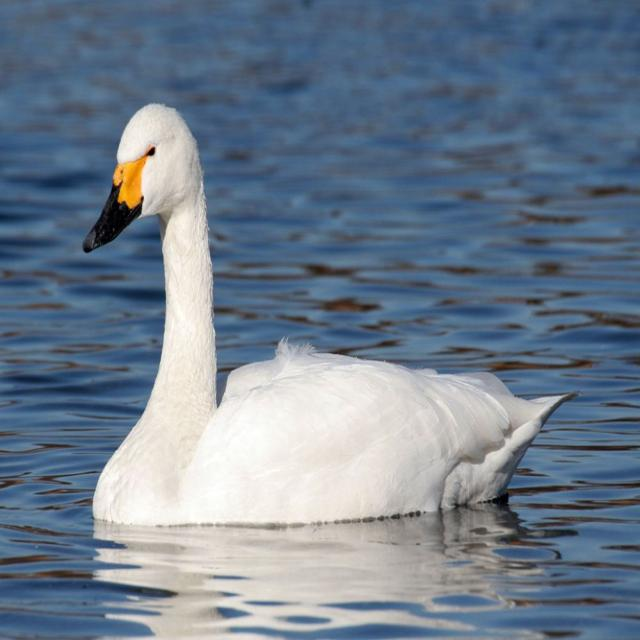Goose: (80, 95, 570, 540)
